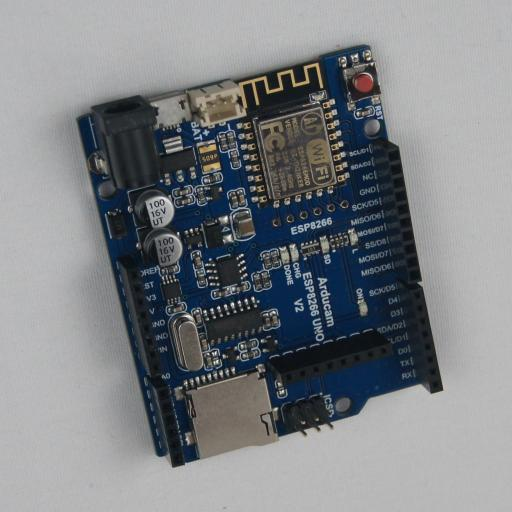Arduino Uno Camera Shield: (76, 44, 443, 468)
